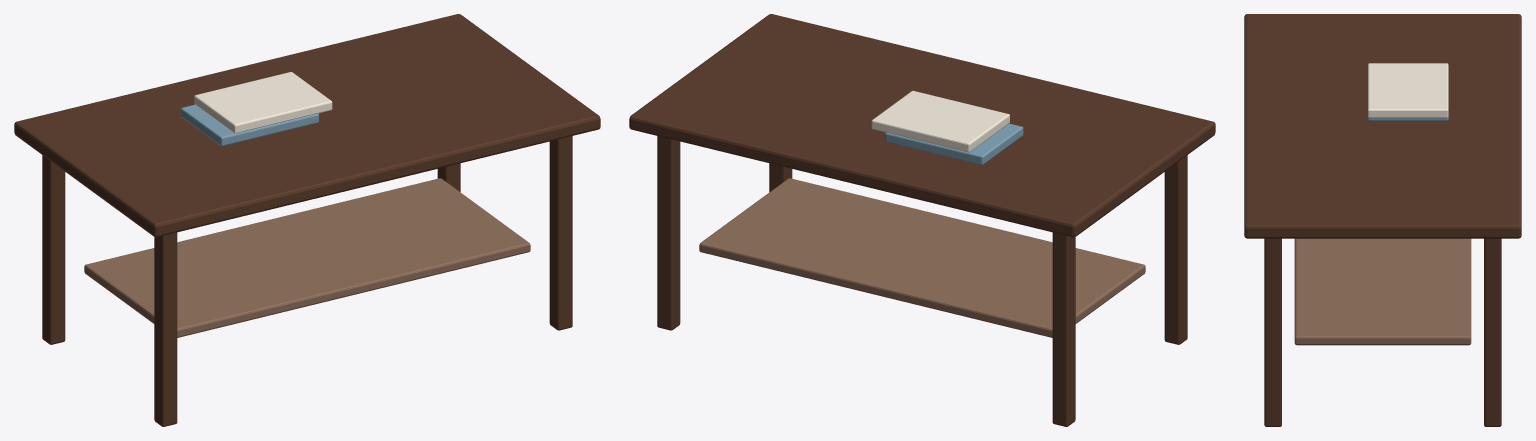
File: hh_coffee_table.glb
3 views of the same model, side by side, from view 1: azimuth 30°, elevation 25°; view 2: azimuth 150°, elevation 25°; view 3: azimuth 270°, elevation 25° (orthographic). The views are drawn at different scales.
Parts seen in each view (by area): view 1: top, shelf, magazine.001, leg, leg.002, leg.001, magazine; view 2: top, shelf, magazine.001, leg.001, leg.003, leg, magazine; view 3: top, shelf, magazine.001, leg.002, leg.003.
Boxes of the visible parts, x1,y1,x2,y2 form: top: (14, 14, 600, 237); shelf: (84, 178, 530, 337); magazine.001: (194, 72, 332, 133); leg: (154, 232, 177, 426); leg.002: (549, 136, 572, 330); leg.001: (42, 155, 65, 344); magazine: (180, 104, 318, 146); top: (629, 14, 1215, 237); shelf: (699, 178, 1145, 337); magazine.001: (871, 90, 1009, 152); leg.001: (1052, 232, 1075, 426); leg.003: (657, 136, 680, 330); leg: (1164, 155, 1187, 344); magazine: (885, 123, 1023, 164); top: (1244, 14, 1521, 238); shelf: (1294, 238, 1471, 345); magazine.001: (1368, 63, 1448, 118); leg.002: (1264, 238, 1281, 426); leg.003: (1484, 238, 1501, 426).
Bounding box in the file's own units: 1 × 0.5 × 0.55.
